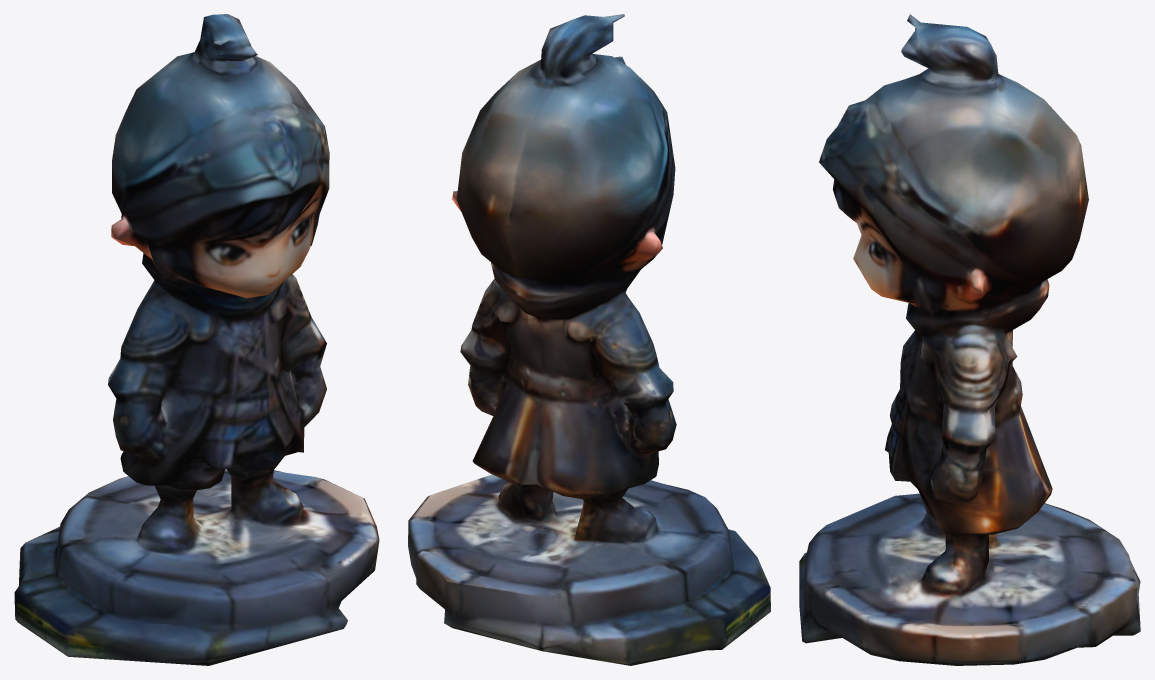
Rendered from vin.fbx.
3 views of the same model, side by side, from view 1: azimuth 30°, elevation 25°; view 2: azimuth 150°, elevation 25°; view 3: azimuth 270°, elevation 25° (orthographic). The views are drawn at different scales.
Parts seen in each view (by area): view 1: ProcessedMeshNode_LOD1; view 2: ProcessedMeshNode_LOD1; view 3: ProcessedMeshNode_LOD1.
Part boxes in pixels (x1=…): ProcessedMeshNode_LOD1: x1=14, y1=14, x2=379, y2=665; ProcessedMeshNode_LOD1: x1=408, y1=14, x2=770, y2=665; ProcessedMeshNode_LOD1: x1=799, y1=14, x2=1140, y2=665.
Bounding box in the file's own units: 54.22 × 91.94 × 47.29.
Materials: 1 (1 with a texture image).
